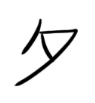ta: (11, 17, 80, 87)
